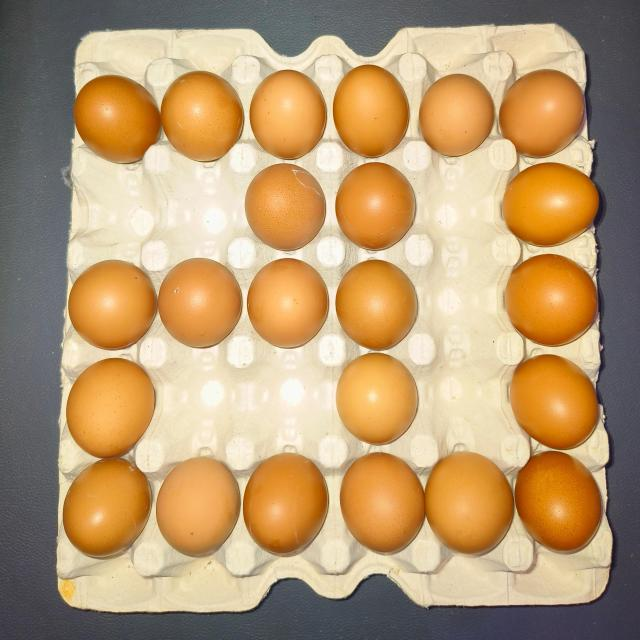Eggs: (428, 448, 518, 562), (249, 452, 336, 566), (59, 360, 156, 460), (502, 262, 602, 354), (504, 358, 604, 450), (59, 460, 151, 560), (514, 454, 602, 557), (344, 452, 424, 558), (496, 163, 600, 244), (250, 248, 328, 352), (157, 462, 245, 554), (158, 251, 242, 346), (72, 72, 158, 164), (335, 260, 421, 348), (336, 62, 412, 159), (164, 70, 245, 160), (335, 160, 419, 246), (68, 262, 152, 348), (506, 70, 586, 159), (339, 356, 416, 448), (245, 163, 329, 246), (255, 67, 327, 163), (424, 64, 496, 154)
